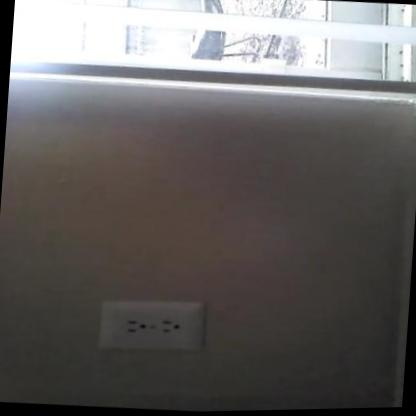OUTLET: (96, 295, 206, 356)
